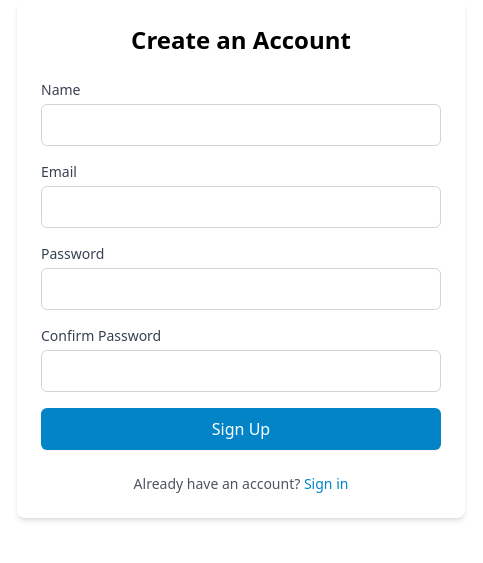
Test: SignUpForm Component › should validate matching passwords
The width and height of the screenshot is (483, 563).
# Fill form with mismatched passwords
In the field labelled "Name": point(241, 125) [41,104,441,146], type "Test User"
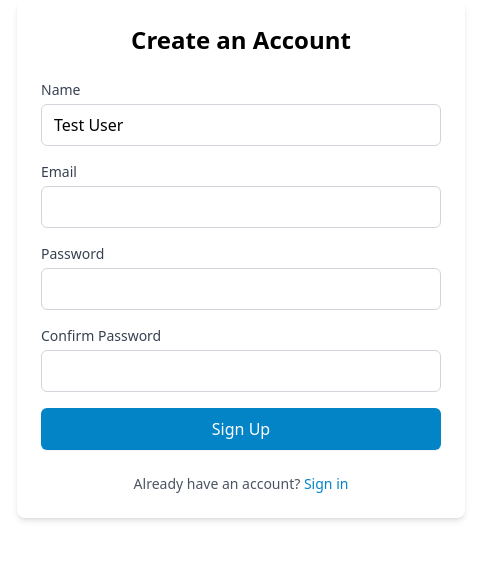
In the field labelled "Email": point(241, 207) [41,186,441,228], type "test@example.com"
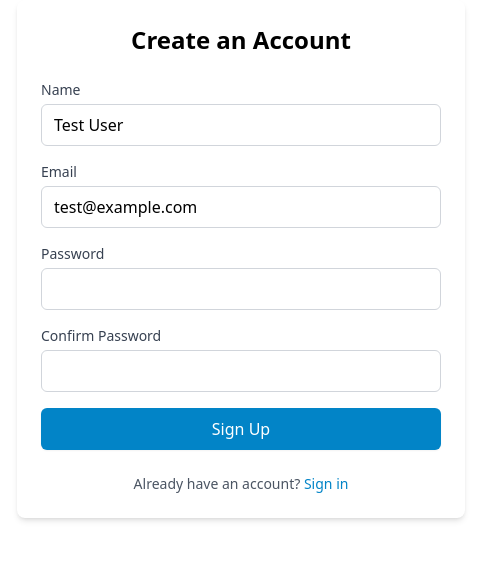
In the password field labelled "Password": point(241, 289) [41,268,441,310], type "Password123!"
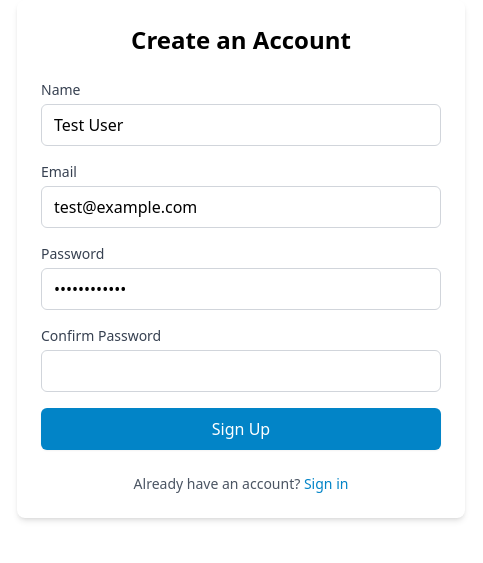
In the password field labelled "Confirm Password": point(241, 371) [41,350,441,392], type "DifferentPassword123!"
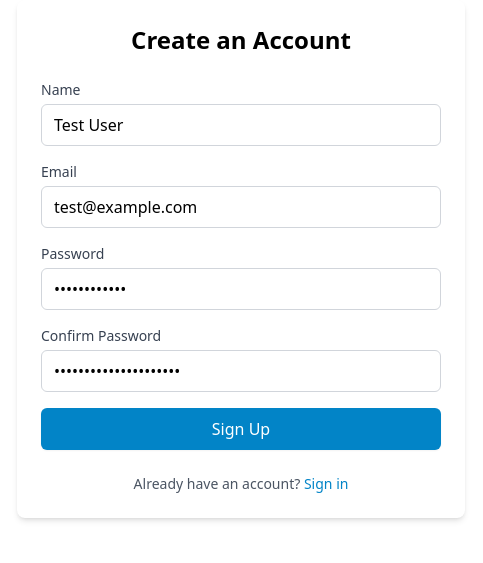
Click the button "Sign Up": point(241, 429) [41,408,441,450]
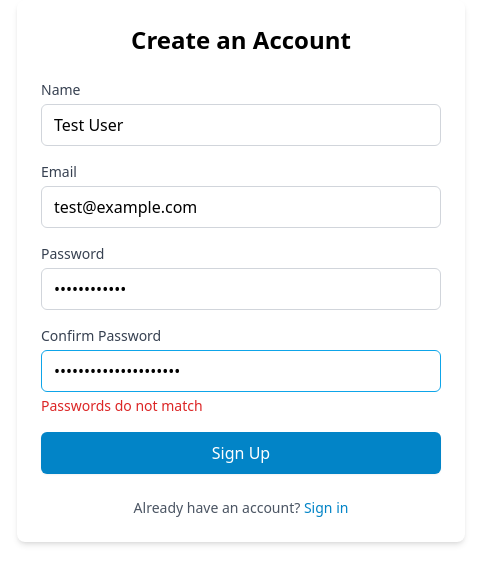
Now the text "Passwords do not match" is shown, box [41,396,203,415]
